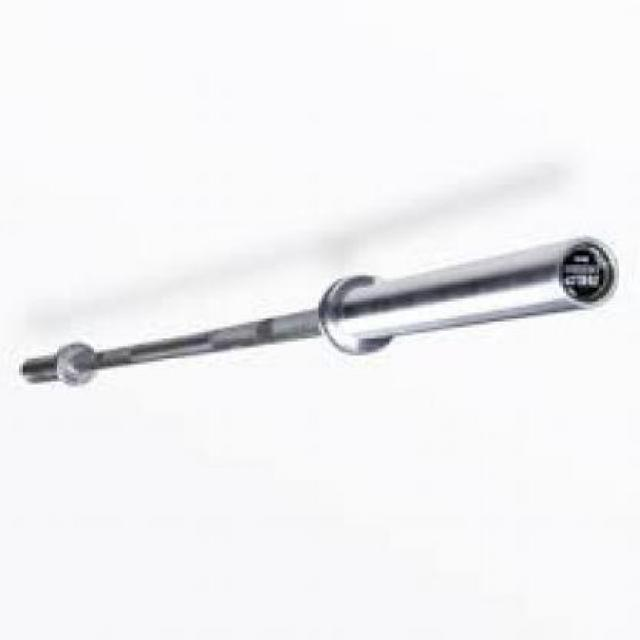Barbell: (543, 225, 629, 324)
